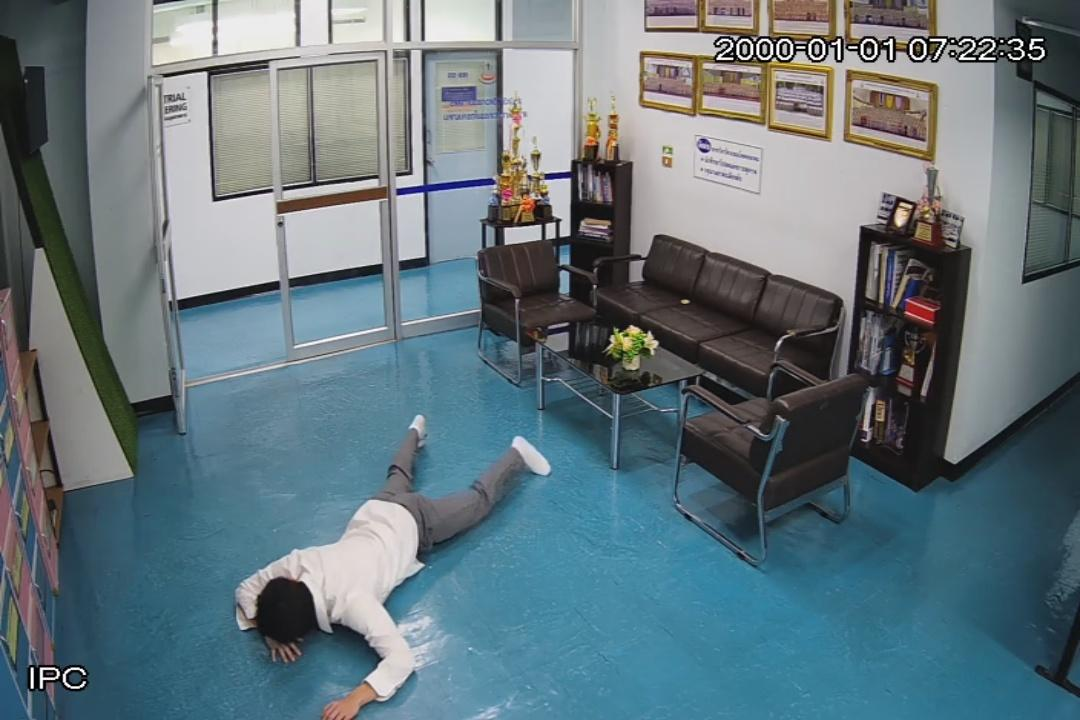fall: (236, 416, 552, 720)
